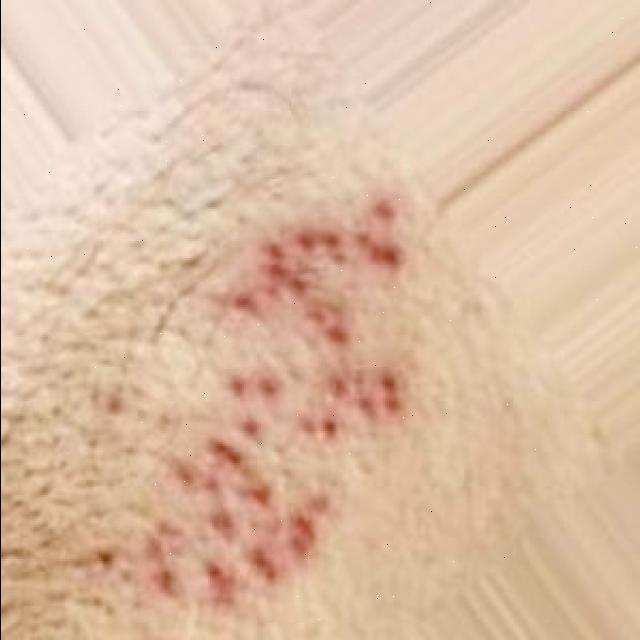Shingles: (95, 192, 403, 610)
